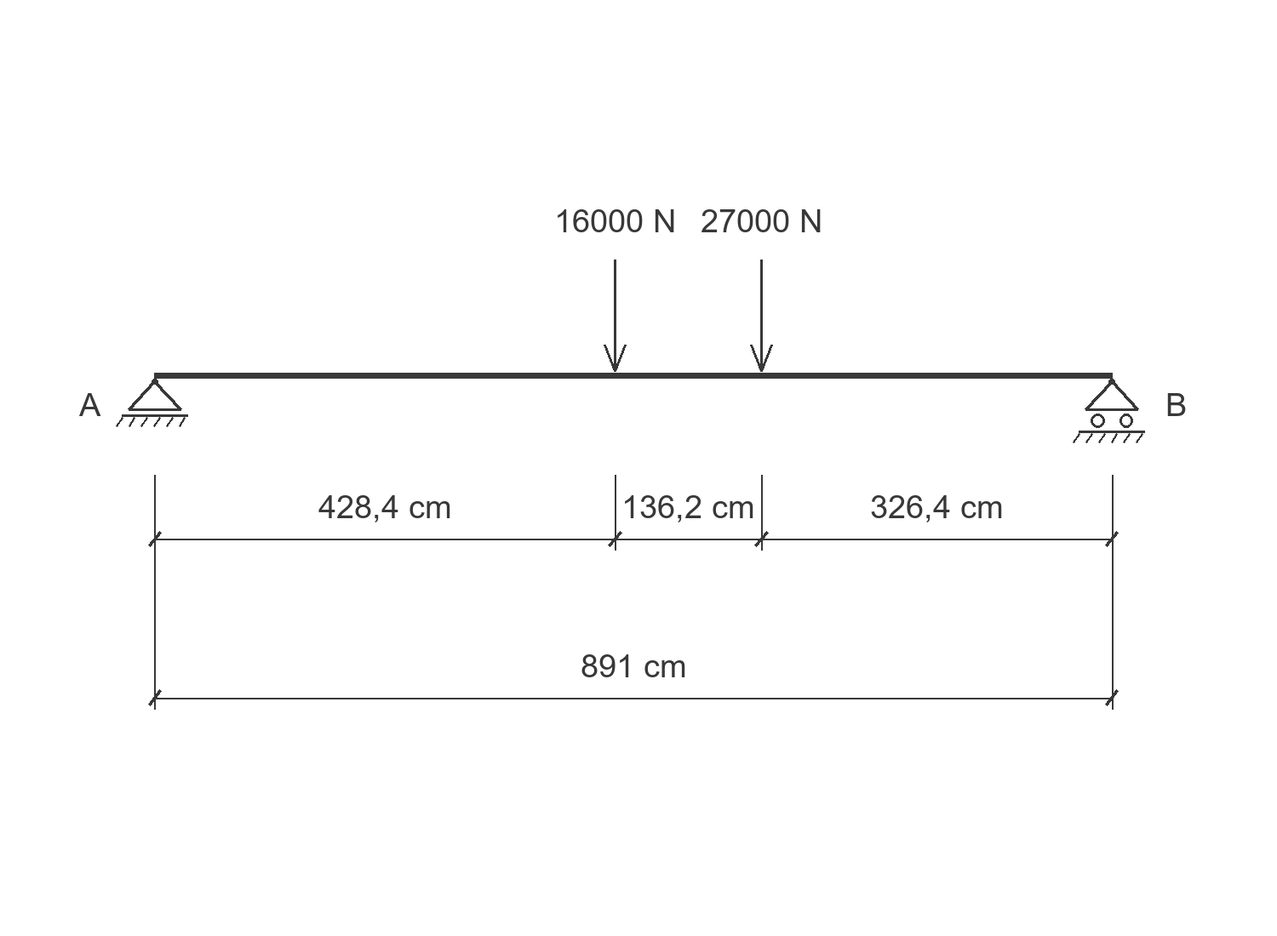pin_support: (116, 379, 188, 427)
point_load: (604, 260, 627, 372), (750, 260, 773, 372)
roller_support: (1073, 379, 1145, 443)
